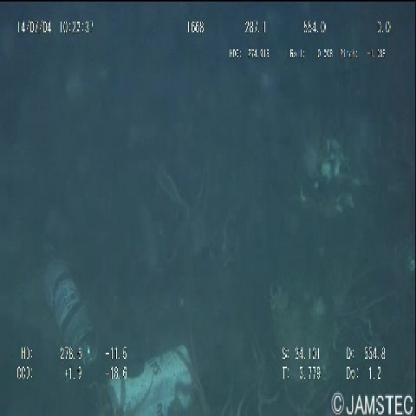Rác: (101, 347, 196, 415)
